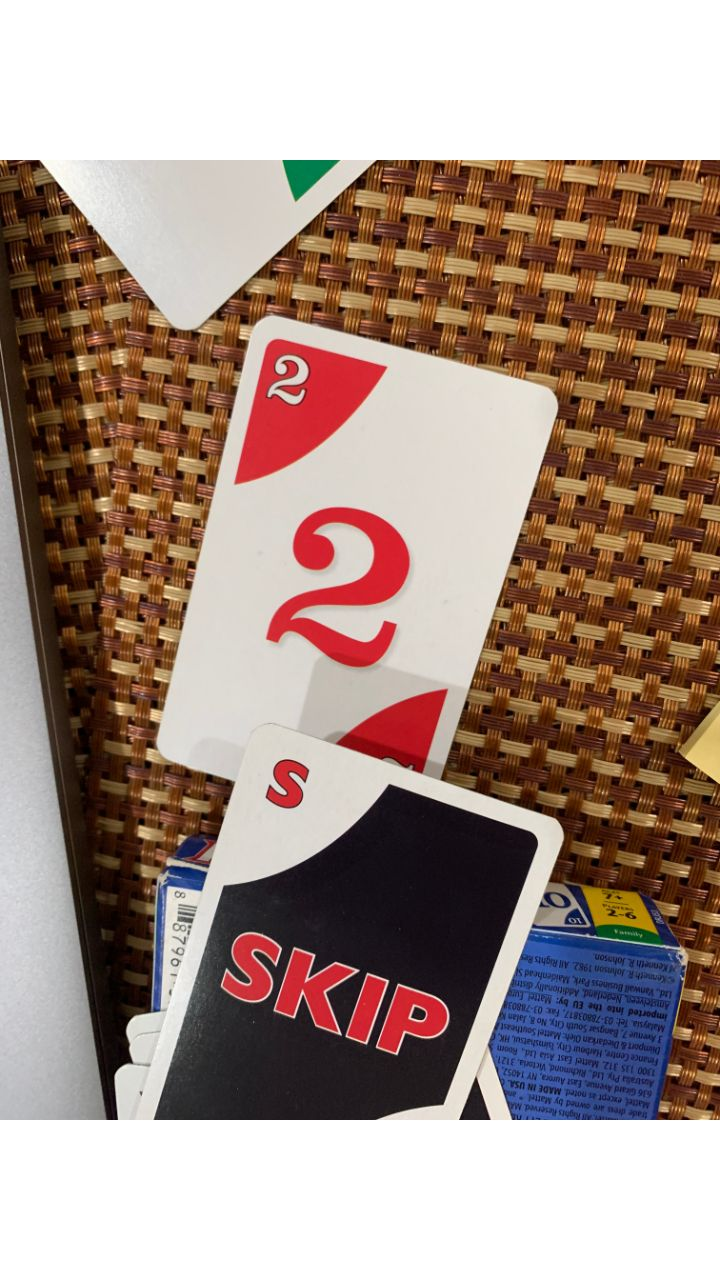two: (157, 313, 557, 832)
